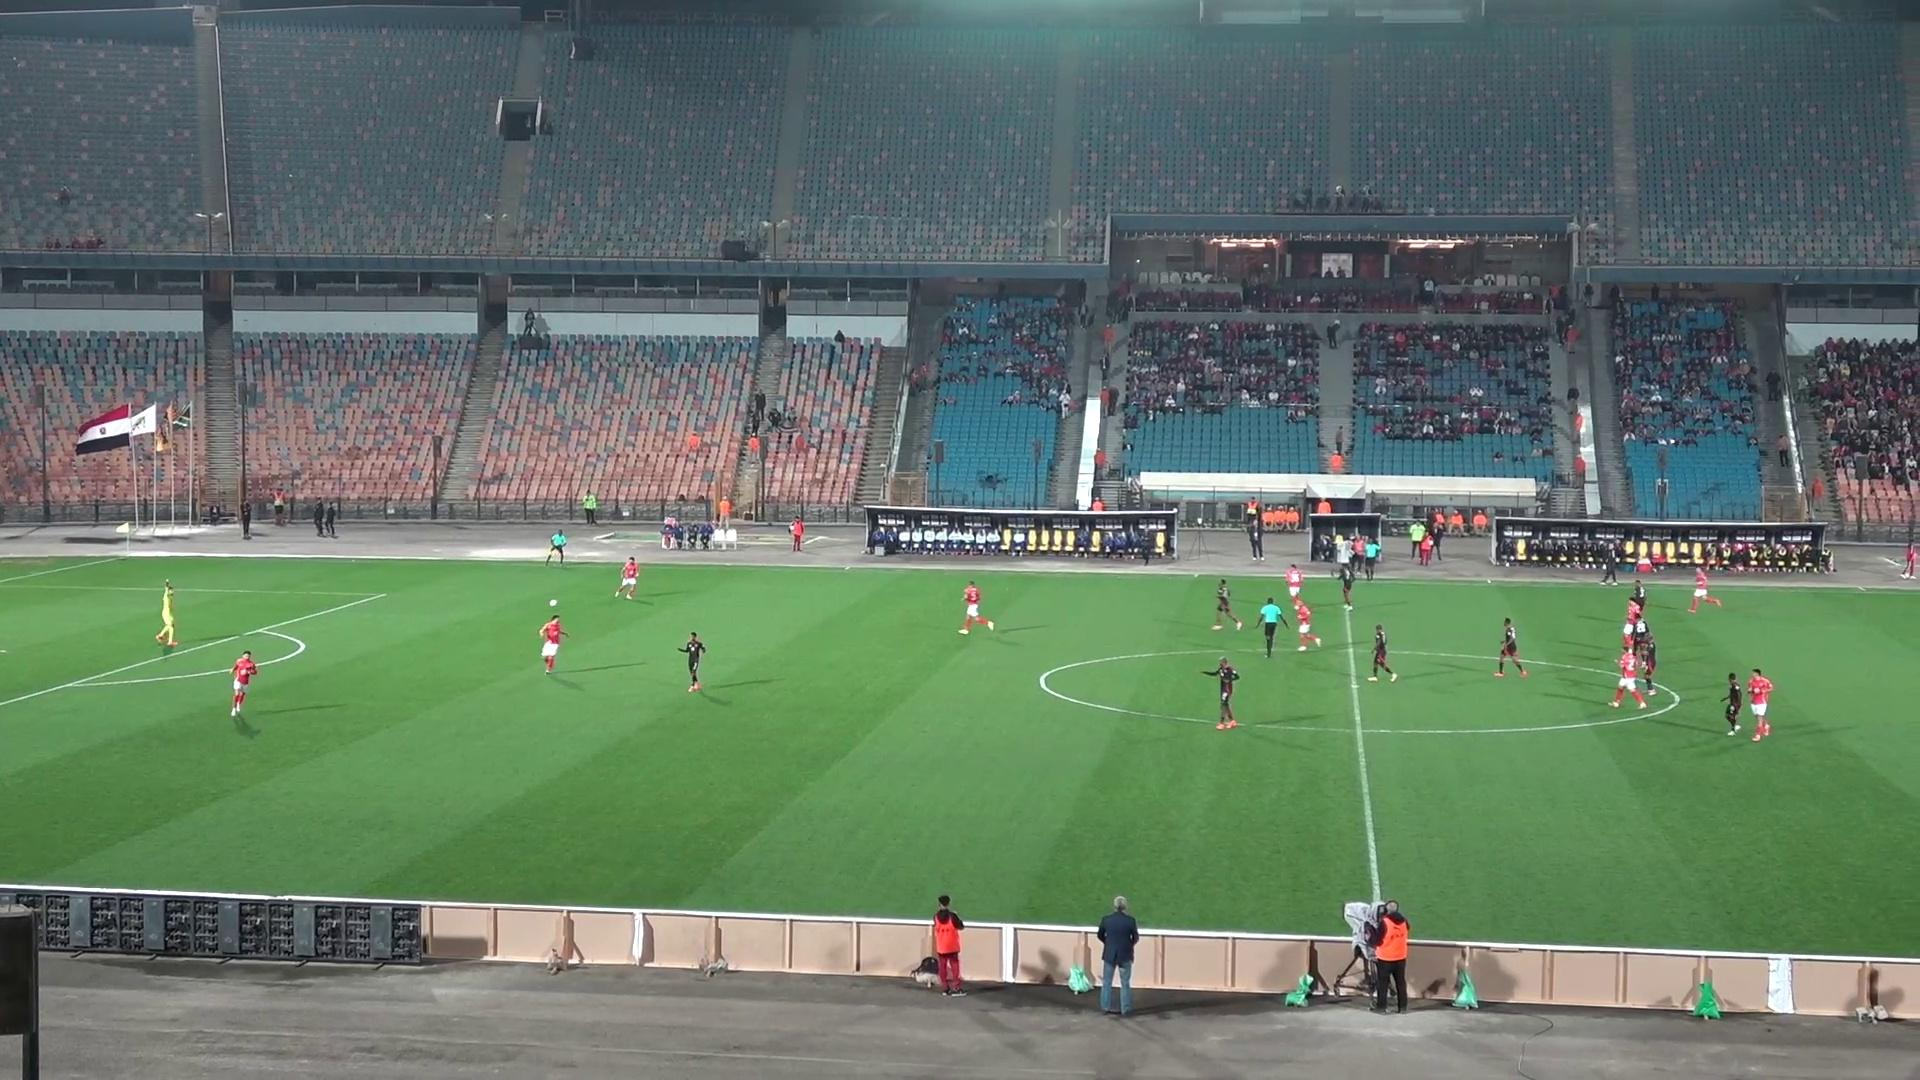Ball: (547, 597, 560, 613)
GK1: (154, 580, 179, 651)
Refree: (1257, 596, 1283, 657), (543, 529, 566, 563)
Team1: (1611, 641, 1646, 708), (1745, 669, 1774, 741), (959, 582, 994, 636), (229, 651, 258, 717), (1291, 592, 1321, 651), (1691, 566, 1722, 613), (541, 615, 566, 673), (615, 556, 640, 597), (1283, 564, 1305, 601)
Team2: (1203, 657, 1240, 731), (1626, 601, 1658, 676), (1335, 549, 1364, 626), (1493, 618, 1526, 676), (1211, 578, 1244, 630), (678, 632, 705, 692), (1367, 624, 1396, 680), (1724, 673, 1743, 735), (1629, 579, 1648, 609)
